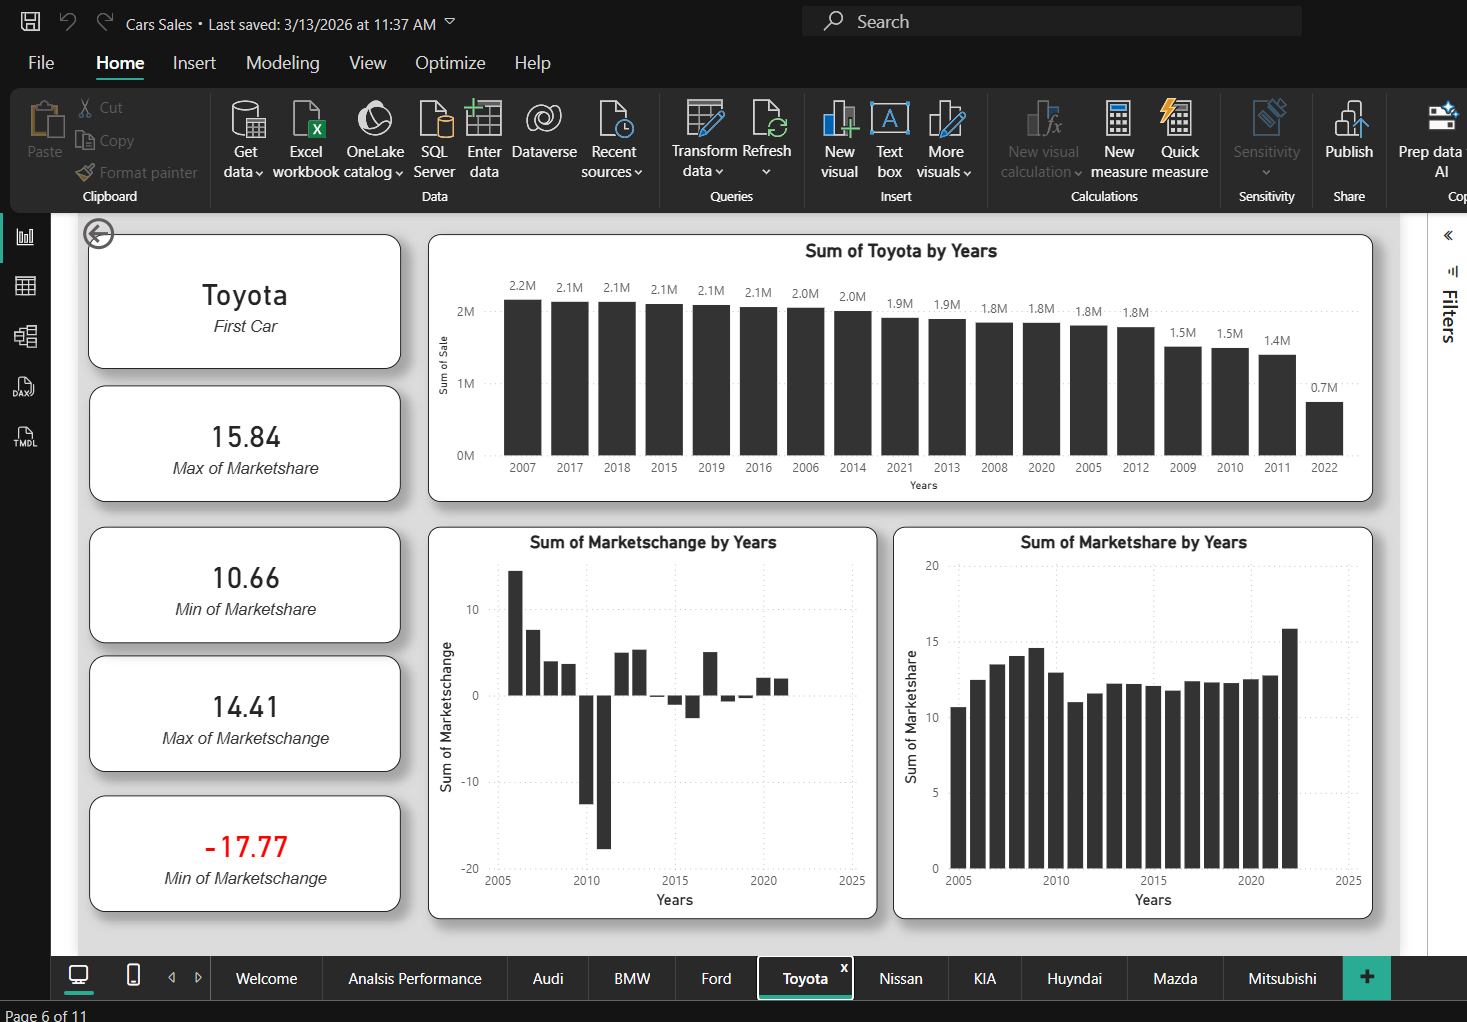

This screenshot's page, from the dashboard's own definition file:
{"tool":"powerbi","page":{"name":"Toyota","canvas":[1280,720],"ordinal":5},"visuals":[{"type":"card","fields":{"Values":["Min(CAR SALES GLOBALY.Car)"]},"box":[9.6,20.6,303.3,130.4],"z":0},{"type":"card","fields":{"Values":["Max(CAR SALES GLOBALY.Marketshare)"]},"box":[11,167.4,301.9,112.5],"z":1000},{"type":"card","fields":{"Values":["Min(CAR SALES GLOBALY.Marketschange)"]},"box":[11,564,301.9,112.5],"z":2000},{"type":"card","fields":{"Values":["Max(CAR SALES GLOBALY.Marketschange)"]},"box":[11,428.1,301.9,112.5],"z":3000},{"type":"card","fields":{"Values":["Min(CAR SALES GLOBALY.Marketshare)"]},"box":[11,303.3,301.9,112.5],"z":4000},{"type":"actionButton","box":[0,0,100,40],"z":5000},{"type":"columnChart","title":"Sum of Toyota by Years","fields":{"Category":["CAR SALES GLOBALY.Years"],"Y":["Sum(CAR SALES GLOBALY.Sale)"]},"box":[338.9,20.6,915.3,259.3],"z":6000},{"type":"lineStackedColumnComboChart","fields":{"Category":["CAR SALES GLOBALY.Years"],"Y":["Sum(CAR SALES GLOBALY.Marketschange)"]},"box":[338.9,303.3,435,380.1],"z":7000},{"type":"lineStackedColumnComboChart","fields":{"Category":["CAR SALES GLOBALY.Years"],"Y":["Sum(CAR SALES GLOBALY.Marketshare)"]},"box":[789,303.3,465.2,380.1],"z":8000}]}

Visuals, with their boxes on the page's 1280x720 design canvas (x1, y1, x2, y2). These are canvas units, not pixel positions in the 1467x1022 screenshot, which may show the page scaled, cropped or inside an application window:
card - Min(CAR SALES GLOBALY.Car): BBox(10, 21, 313, 151)
card - Max(CAR SALES GLOBALY.Marketshare): BBox(11, 167, 313, 280)
card - Min(CAR SALES GLOBALY.Marketschange): BBox(11, 564, 313, 676)
card - Max(CAR SALES GLOBALY.Marketschange): BBox(11, 428, 313, 541)
card - Min(CAR SALES GLOBALY.Marketshare): BBox(11, 303, 313, 416)
actionButton: BBox(0, 0, 100, 40)
"Sum of Toyota by Years" columnChart: BBox(339, 21, 1254, 280)
lineStackedColumnComboChart - CAR SALES GLOBALY.Years x Sum(CAR SALES GLOBALY.Marketschange): BBox(339, 303, 774, 683)
lineStackedColumnComboChart - CAR SALES GLOBALY.Years x Sum(CAR SALES GLOBALY.Marketshare): BBox(789, 303, 1254, 683)
